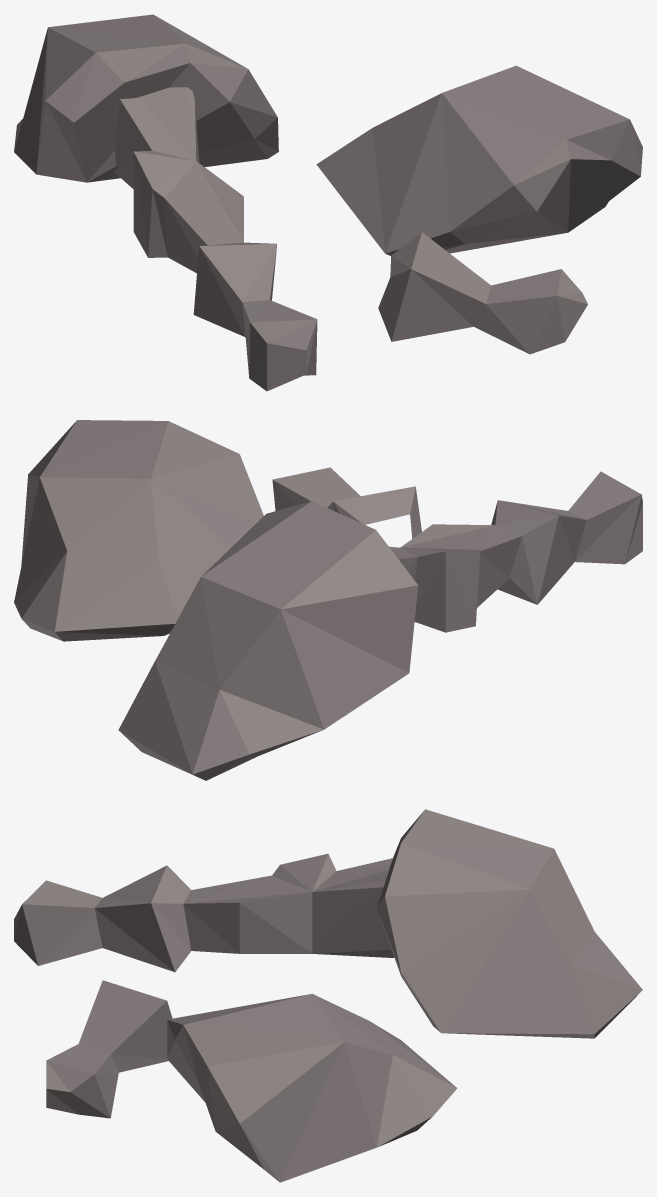
3 renders of one model, top to bottom at view 1: azimuth 30°, elevation 25°; view 2: azimuth 150°, elevation 25°; view 3: azimuth 270°, elevation 25°, orthographic. The views are drawn at different scales.
Size of the model in its own units: 65 by 26 by 78.
Materials: 1 (1 with a texture image).
